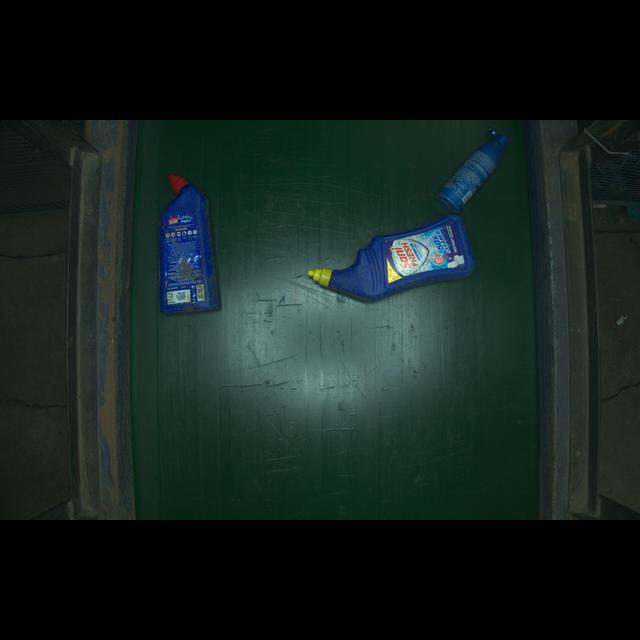HDPE: (287, 206, 491, 322)
